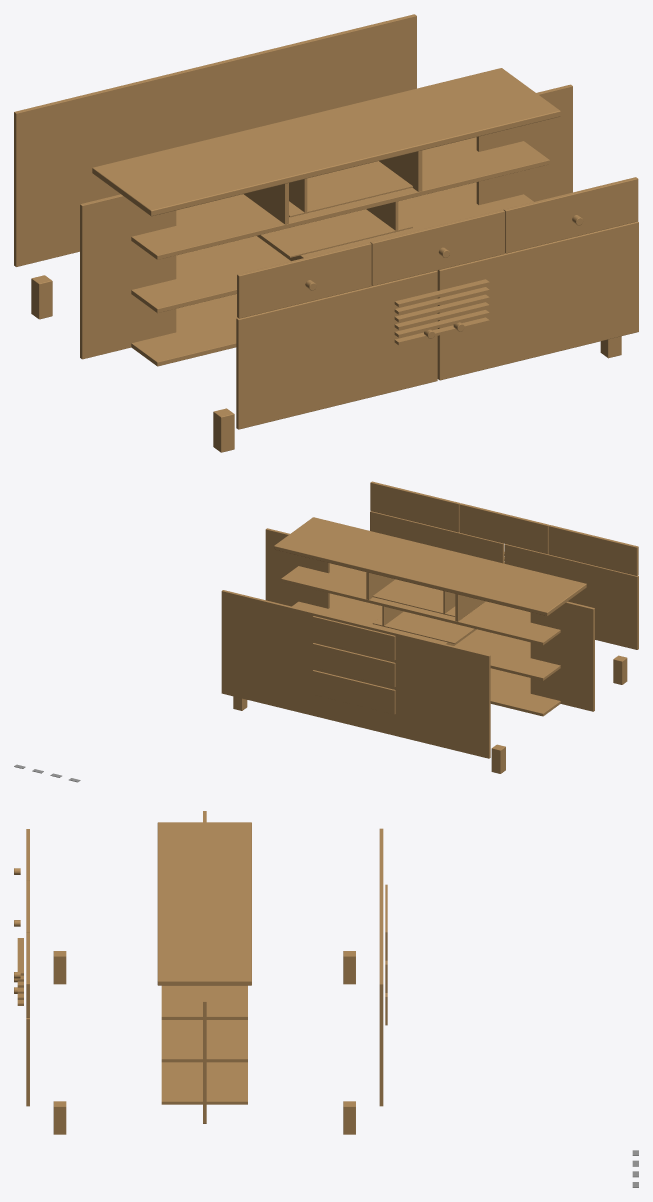
Rendered from Oakley_sideboard.glb.
3 renders of one model, top to bottom at view 1: azimuth 30°, elevation 25°; view 2: azimuth 150°, elevation 25°; view 3: azimuth 270°, elevation 25°, orthographic. The views are drawn at different scales.
Parts seen in each view (by area): view 1: carcass.back, top, door_1, door_2, carcass.side_1, carcass.divider, shelf.fixed, drawer.front_1, carcass.side_2, drawer.front_3, drawer.front_2, carcass.bottom (+11 smaller); view 2: carcass.back, top, door_1, carcass.side_1, carcass.divider, shelf.fixed, door_2, drawer.front_1, carcass.side_2, drawer.front_3, drawer.front_2, drawer.back_1 (+7 smaller); view 3: top, carcass.bottom, shelf.fixed, carcass.divider, carcass.back, carcass.side_2.
Boxes of the visible parts, x1,y1,x2,y2 form: carcass.back: (14,14,416,266); top: (92,68,560,216); door_1: (236,270,437,429); door_2: (437,221,638,380); carcass.side_1: (80,194,176,359); carcass.divider: (131,137,549,259); shelf.fixed: (131,182,533,313); drawer.front_1: (237,242,371,318); carcass.side_2: (476,84,572,204); drawer.front_3: (503,177,638,253); drawer.front_2: (370,209,504,285); carcass.bottom: (131,270,437,366); carcass.back: (221,590,490,758); top: (274,517,586,616); door_1: (504,544,638,649); carcass.side_1: (530,601,594,711); carcass.divider: (281,563,560,645); shelf.fixed: (292,593,560,680); door_2: (370,511,504,563); drawer.front_1: (548,525,638,575); carcass.side_2: (265,528,329,608); drawer.front_3: (370,481,460,532); drawer.front_2: (459,503,549,554); drawer.back_1: (312,670,395,714); top: (157,822,251,985); carcass.bottom: (161,1062,247,1104); shelf.fixed: (161,1020,247,1062); carcass.divider: (161,985,247,1019); carcass.back: (379,828,383,1106); carcass.side_2: (203,985,206,1123).
Bounding box in the file's own units: 2.62 × 0.82 × 2.99.
